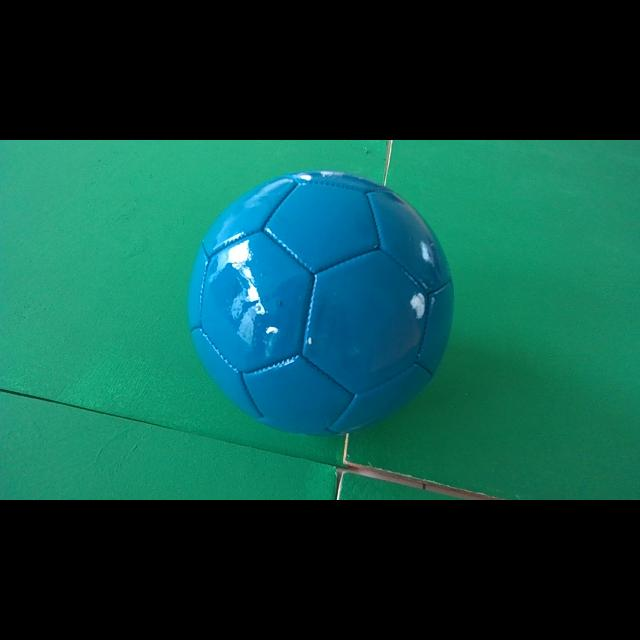B: (189, 171, 452, 435)
